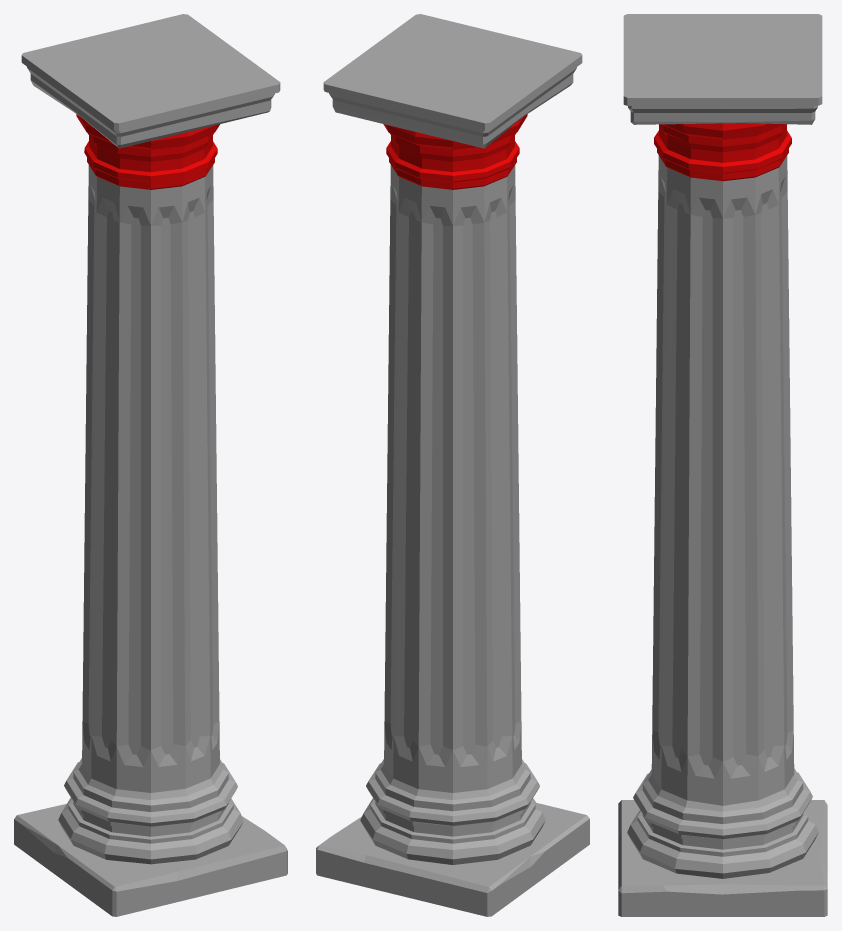
File: SM_Bld_Pillar_02.fbx
3 views of the same model, side by side, from view 1: azimuth 30°, elevation 25°; view 2: azimuth 150°, elevation 25°; view 3: azimuth 270°, elevation 25° (orthographic). The views are drawn at different scales.
Parts seen in each view (by area): view 1: SM_Bld_Pillar_02; view 2: SM_Bld_Pillar_02; view 3: SM_Bld_Pillar_02.
Boxes of the visible parts, box(x1,y1,x2,y2) form: SM_Bld_Pillar_02: box(14, 14, 287, 916); SM_Bld_Pillar_02: box(316, 14, 589, 916); SM_Bld_Pillar_02: box(618, 14, 827, 916).
Bounding box in the file's own units: 69.73 × 300 × 69.73.
